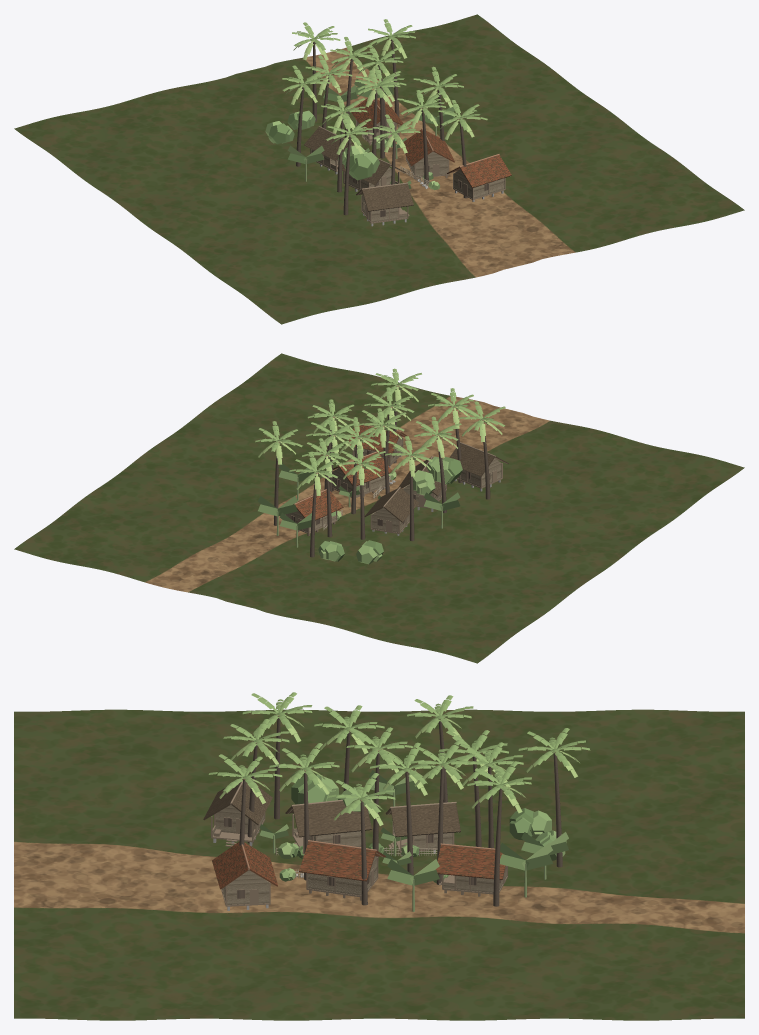
The model's file is 3.Kampung_Banten_1888_LowPoly_Optimized-compressed.glb.
3 views of the same model, one above another, from view 1: azimuth 30°, elevation 25°; view 2: azimuth 150°, elevation 25°; view 3: azimuth 270°, elevation 25° (orthographic). The views are drawn at different scales.
Visible parts, largest first — view 1: Kampung_Banten_1888; view 2: Kampung_Banten_1888; view 3: Kampung_Banten_1888.
Part boxes in pixels (box(x1,y1,x2,y2)): Kampung_Banten_1888: box(14, 14, 744, 324); Kampung_Banten_1888: box(14, 353, 744, 663); Kampung_Banten_1888: box(14, 709, 744, 1020).
Bounding box in the file's own units: 75 × 15.07 × 75.
Materials: 24 (5 with a texture image).
